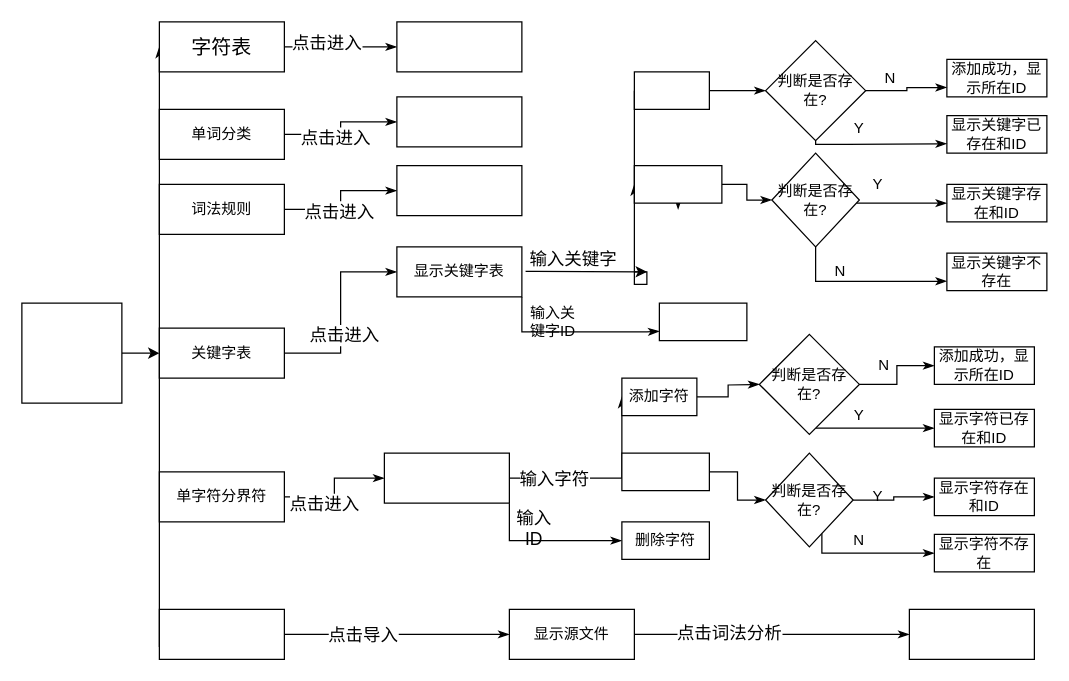
Some shapes in this 1069 by 681 pixel diagram are drawn without their labels. Here are the shapes that lost their labels. From the top down, the centre of each, then its label:
At (x=459, y=46): "显示字符表".
At (x=671, y=90): "添加关键字".
At (x=459, y=121): "显示单次分类".
At (x=459, y=190): "显示词法规则".
At (x=677, y=183): "查询关键字".
At (x=702, y=321): "删除关键字".
At (x=71, y=352): "主界面".
At (x=446, y=477): "显示单字符分界表".
At (x=665, y=471): "查询字符".
At (x=221, y=633): "词法分析".
At (x=971, y=633): "显示词法分析结果".
